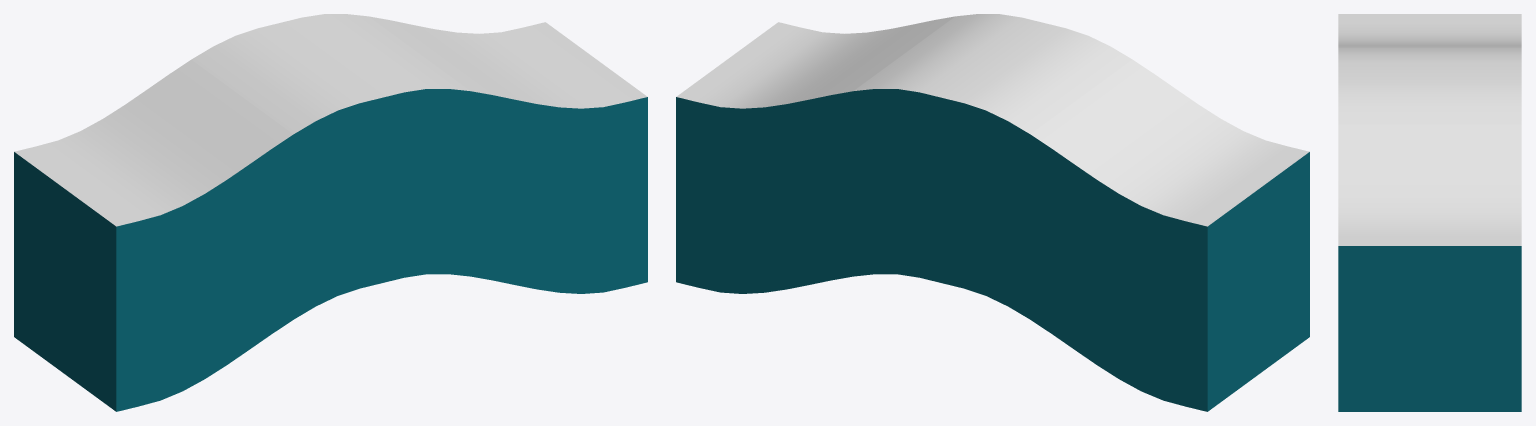
File: wave-platform-001.fbx
3 renders of one model, left to right at view 1: azimuth 30°, elevation 25°; view 2: azimuth 150°, elevation 25°; view 3: azimuth 270°, elevation 25°, orthographic. The views are drawn at different scales.
Visible parts, largest first — view 1: wave-platform; view 2: wave-platform; view 3: wave-platform.
Part boxes in pixels (bbox=[...]): wave-platform: bbox=[14, 14, 647, 411]; wave-platform: bbox=[676, 14, 1309, 411]; wave-platform: bbox=[1338, 14, 1521, 411].
Bounding box in the file's own units: 3000 × 1345 × 1000.
